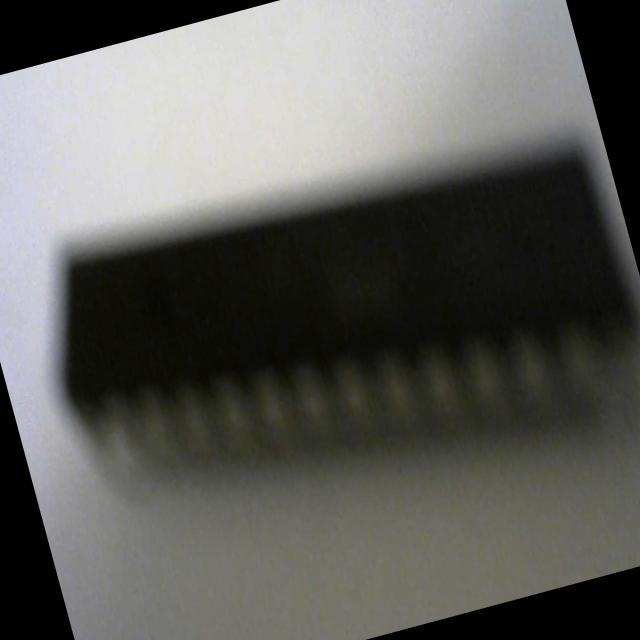atmega: (21, 89, 640, 558)
